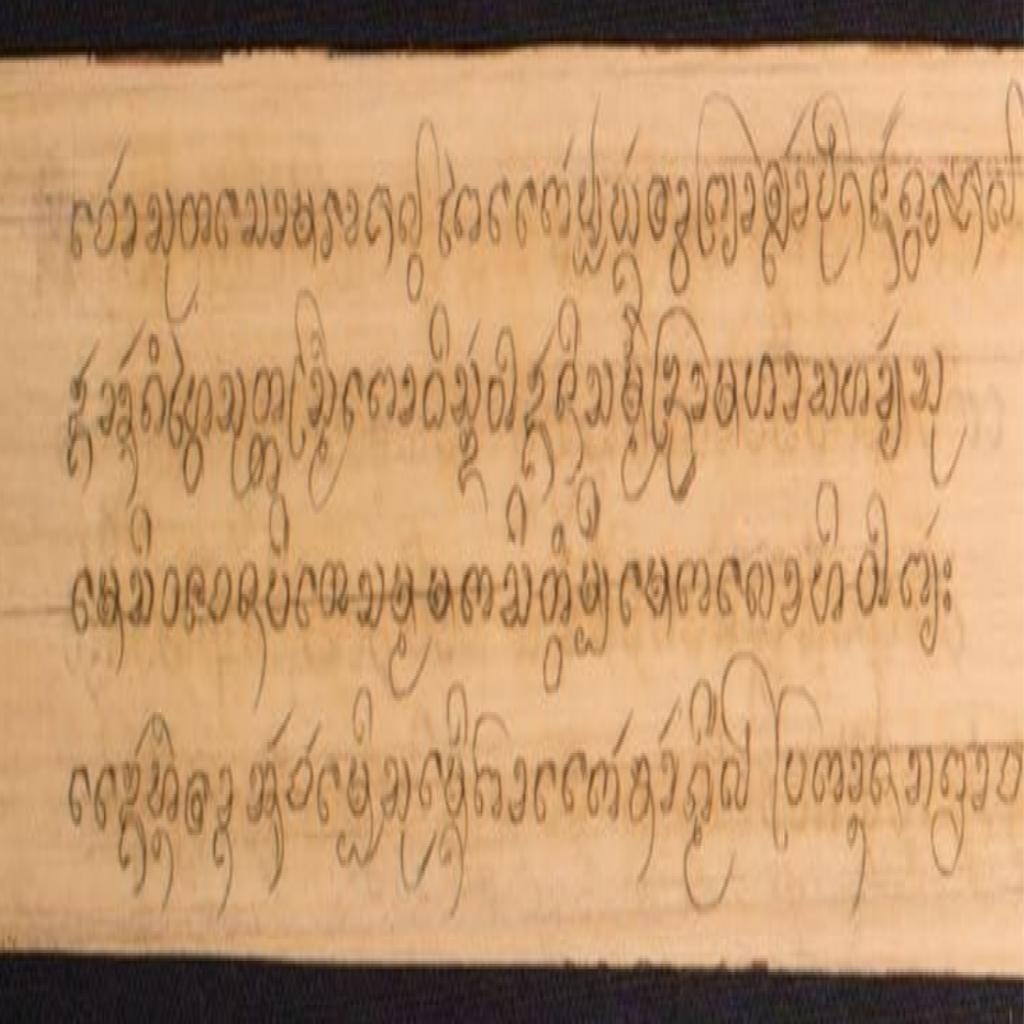LN001: (458, 557, 498, 637)
LN002: (625, 746, 658, 835)
